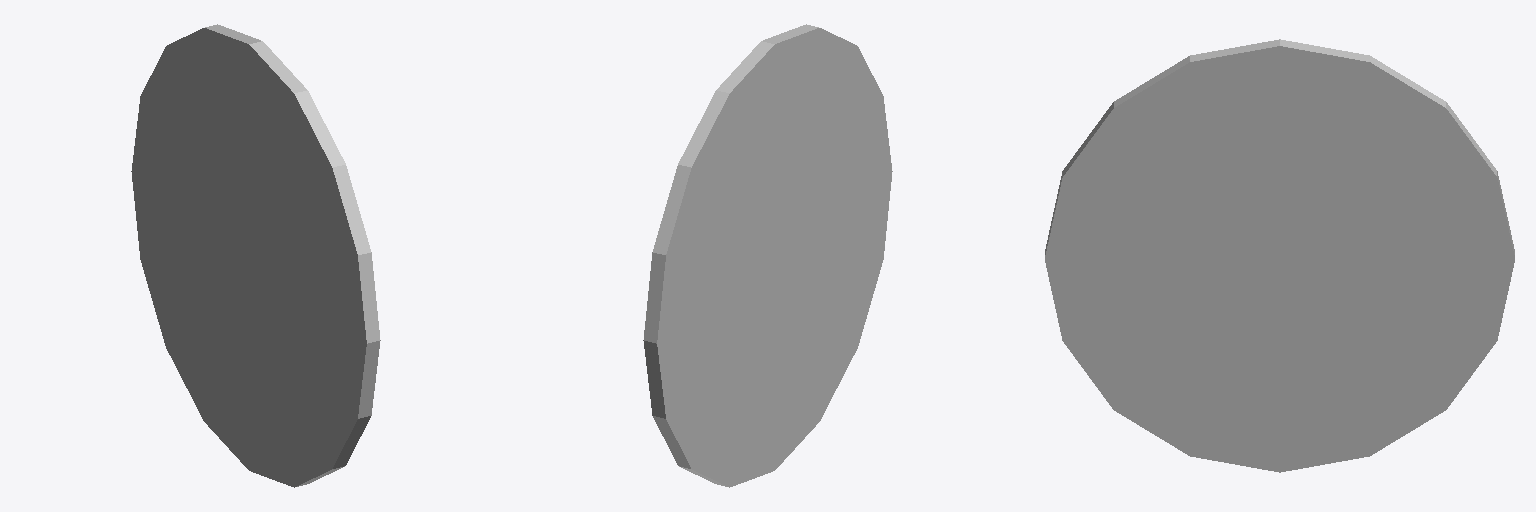
The model's file is PortalPegasofondo.obj.
The picture shows the model from 3 angles: view 1: azimuth 30°, elevation 25°; view 2: azimuth 150°, elevation 25°; view 3: azimuth 270°, elevation 25°; orthographic projection.
Visible parts, largest first — view 1: Cylinder_Cylinder.001; view 2: Cylinder_Cylinder.001; view 3: Cylinder_Cylinder.001.
Part boxes in pixels (bbox=[...]): Cylinder_Cylinder.001: bbox=[131, 24, 380, 487]; Cylinder_Cylinder.001: bbox=[643, 24, 892, 487]; Cylinder_Cylinder.001: bbox=[1045, 39, 1514, 472].
Size of the model in its own units: 0.1305 by 3.89 by 3.89.